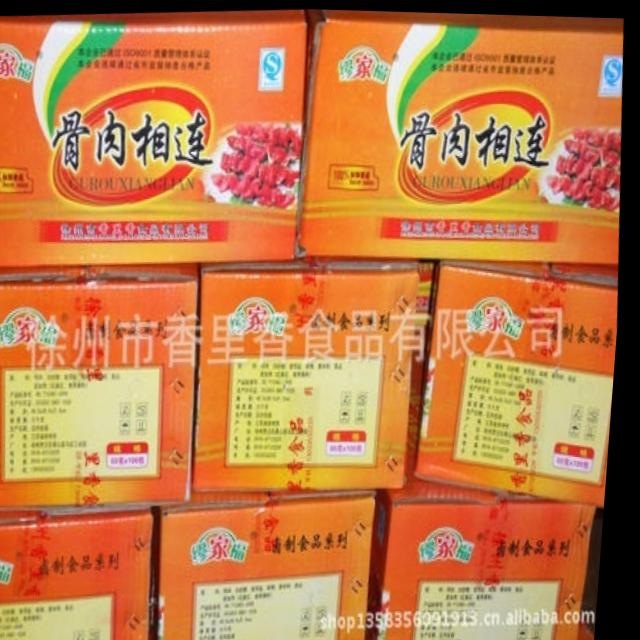box: (300, 8, 622, 261), (0, 9, 307, 266), (200, 260, 423, 491), (0, 261, 204, 512), (422, 258, 621, 502), (375, 474, 604, 640), (159, 485, 384, 640), (0, 506, 162, 640)
